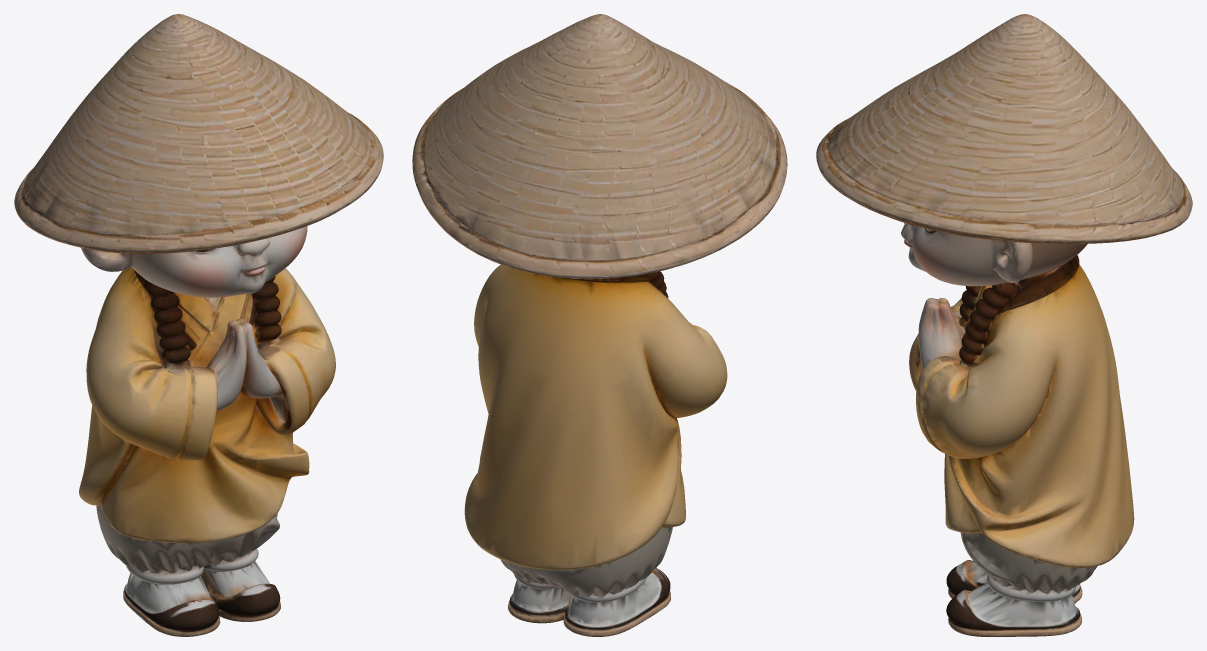
File: wings_of_freedom-novice-3675.glb
3 renders of one model, left to right at view 1: azimuth 30°, elevation 25°; view 2: azimuth 150°, elevation 25°; view 3: azimuth 270°, elevation 25°, orthographic.
Parts seen in each view (by area): view 1: texture_pbr_v128; view 2: texture_pbr_v128; view 3: texture_pbr_v128.
Boxes of the visible parts, x1,y1,x2,y2 form: texture_pbr_v128: (14, 14, 383, 636); texture_pbr_v128: (412, 14, 787, 636); texture_pbr_v128: (816, 14, 1192, 636).
Size of the model in its own units: 0.6601 by 1.17 by 0.678.
1 material, 1 textured.
